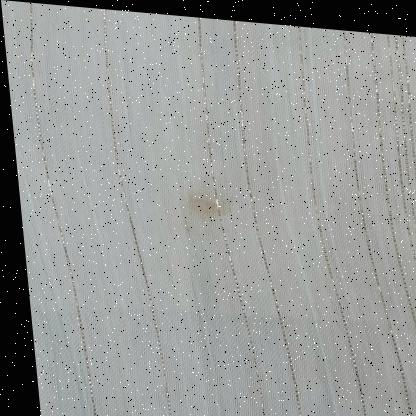spot: (171, 183, 233, 221), (175, 216, 186, 232)
